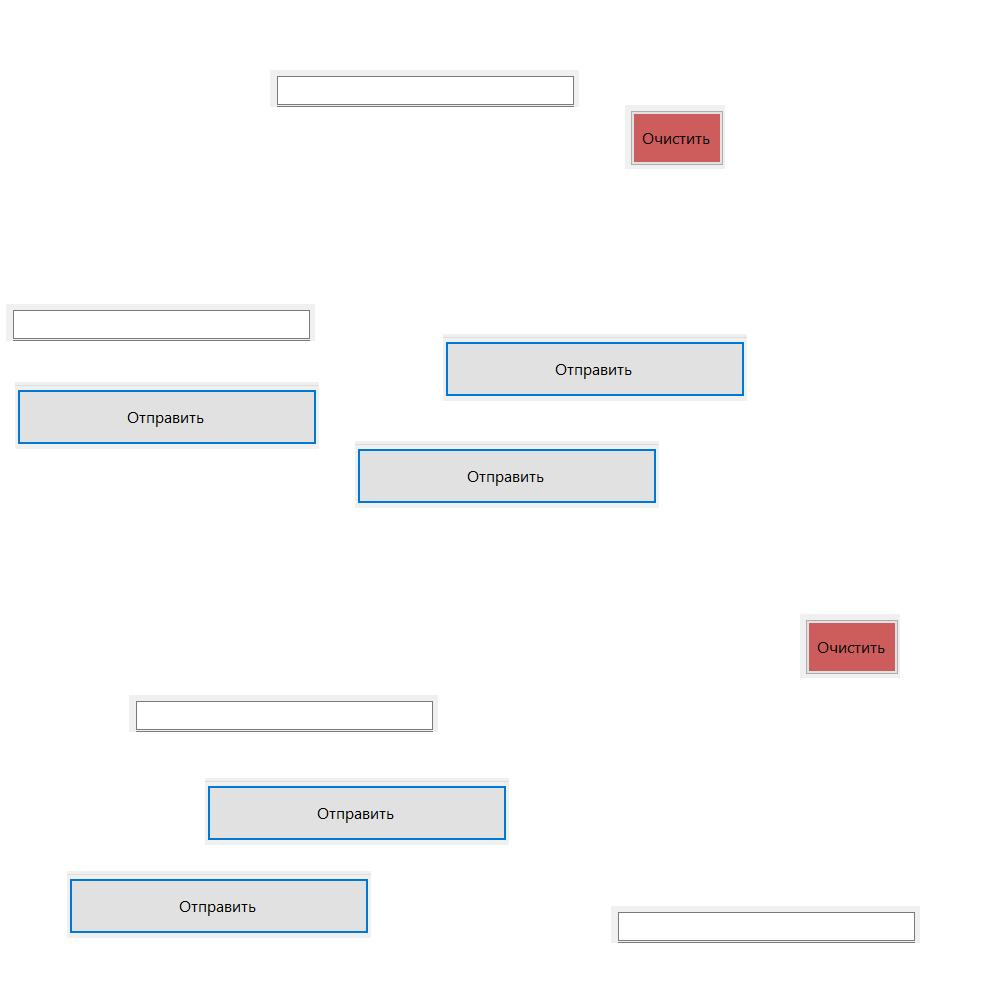Button: (15, 382, 319, 449), (443, 334, 747, 401), (355, 441, 659, 508), (67, 871, 371, 938), (205, 778, 509, 845), (800, 614, 900, 678), (625, 105, 725, 169)
EditText-: (129, 695, 438, 732), (270, 70, 579, 107), (6, 304, 315, 341), (611, 906, 920, 943)
